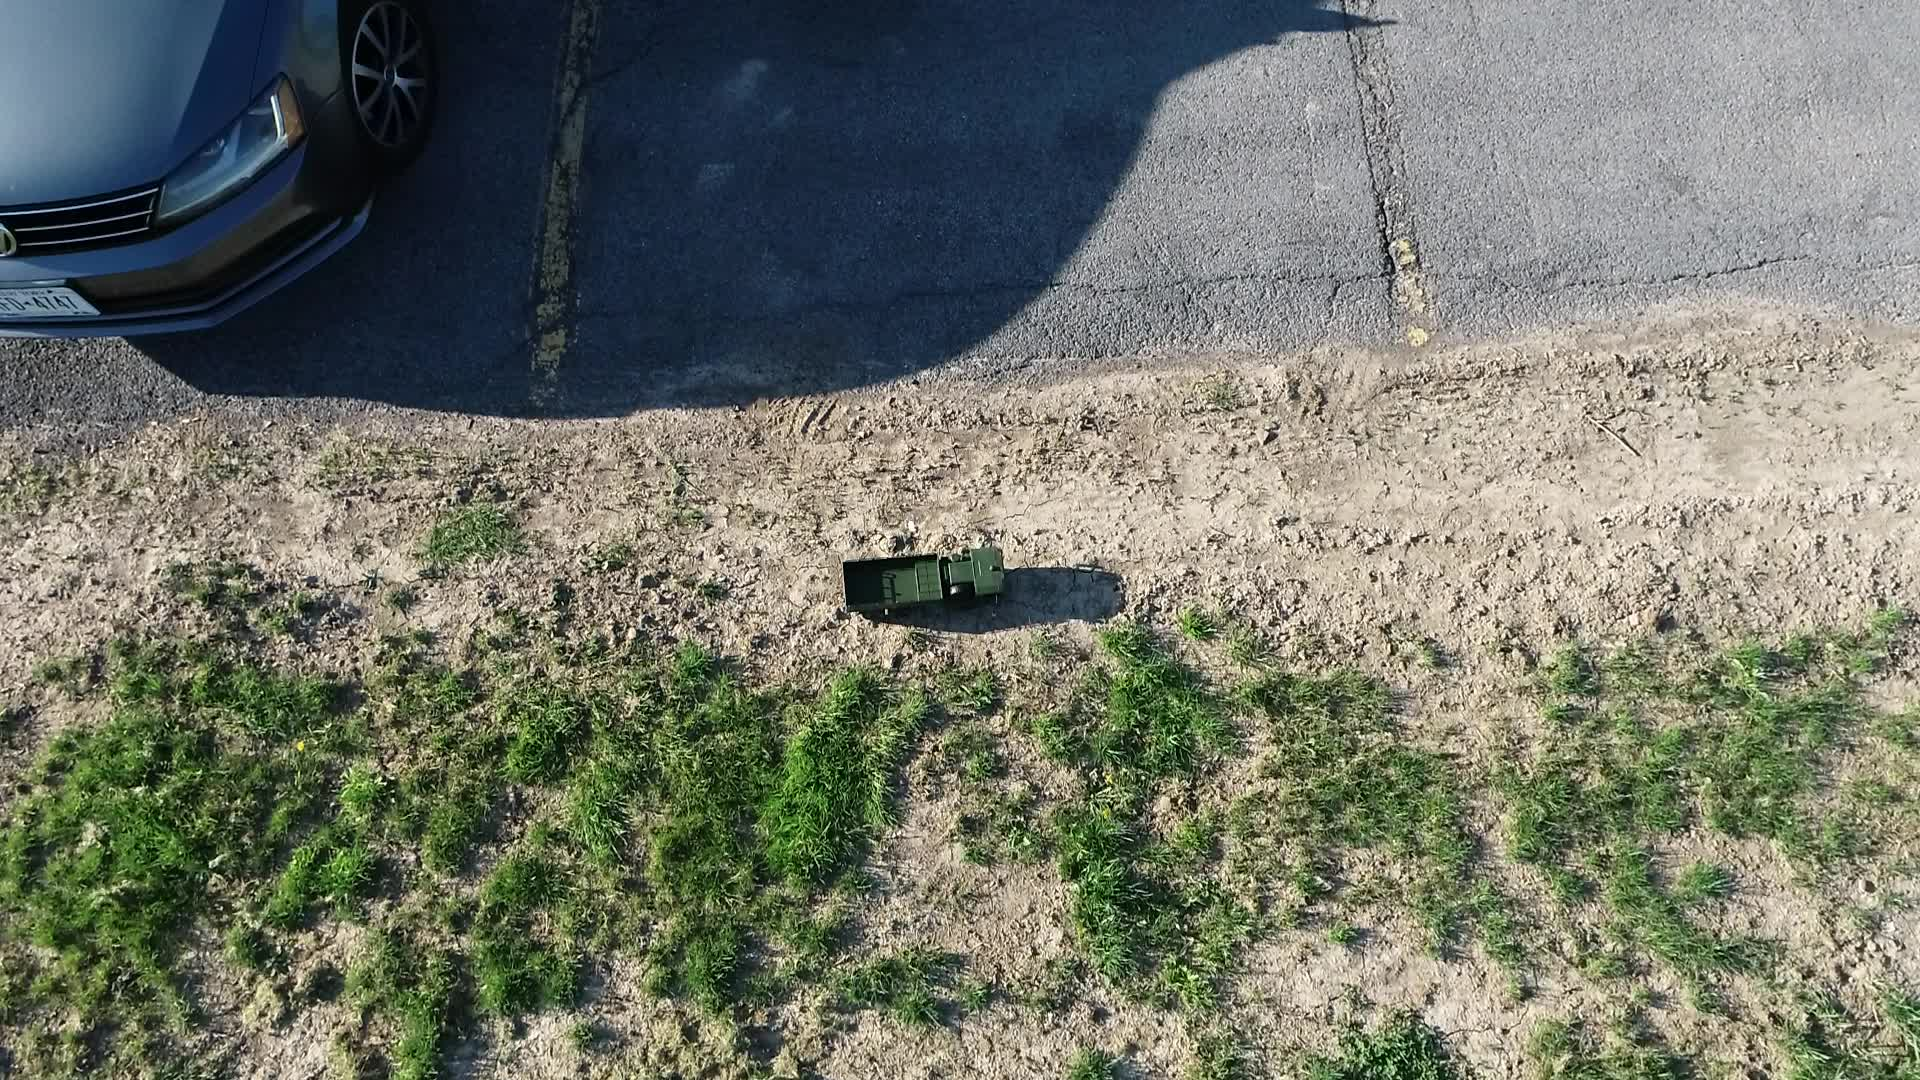transporter9: (836, 543, 1010, 620)
